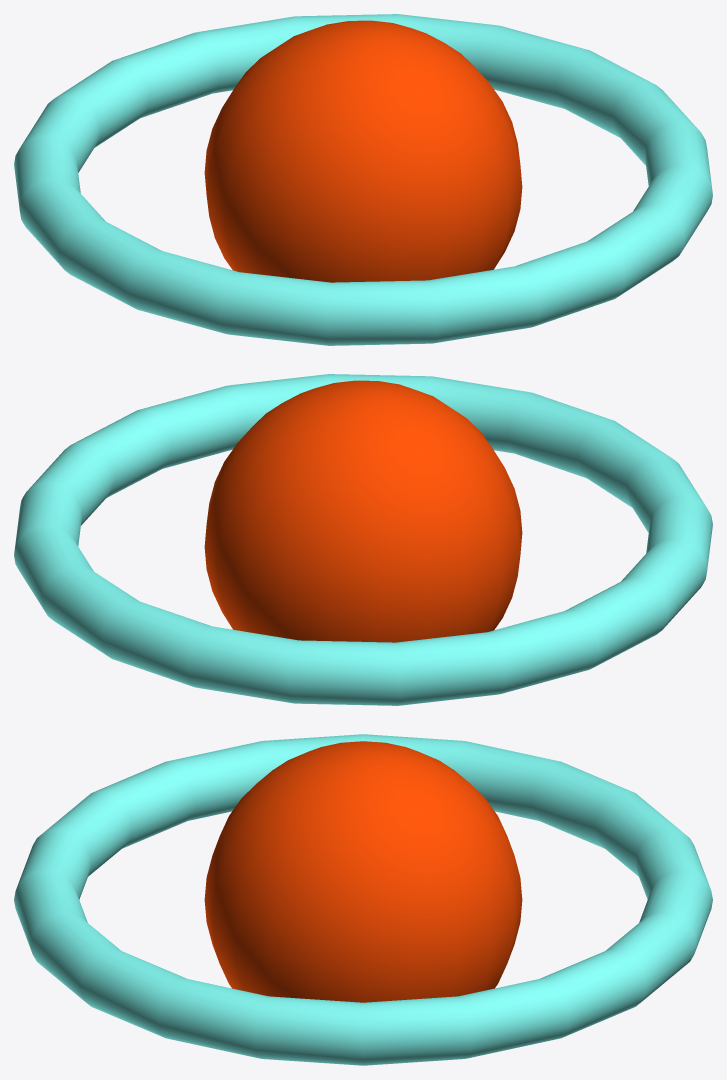
Rendered from Enemy1.fbx.
3 renders of one model, top to bottom at view 1: azimuth 30°, elevation 25°; view 2: azimuth 150°, elevation 25°; view 3: azimuth 270°, elevation 25°, orthographic.
Visible parts, largest first — view 1: pTorus1, pSphere1; view 2: pTorus1, pSphere1; view 3: pTorus1, pSphere1.
Part boxes in pixels (bbox=[...]): pTorus1: bbox=[14, 14, 712, 345]; pSphere1: bbox=[204, 20, 522, 282]; pTorus1: bbox=[14, 374, 712, 705]; pSphere1: bbox=[204, 380, 522, 642]; pTorus1: bbox=[14, 734, 712, 1065]; pSphere1: bbox=[204, 741, 522, 1002].
Size of the model in its own units: 4.4 by 2 by 4.4.
1 material, 1 textured.
